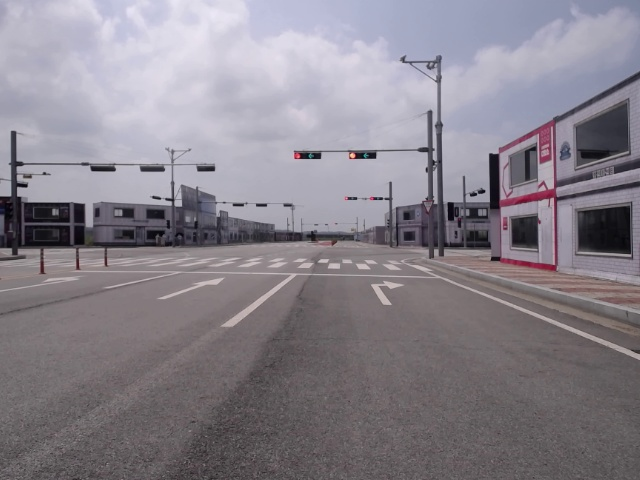left_green_4: (294, 152, 321, 159), (349, 152, 376, 159), (345, 197, 357, 199), (370, 197, 382, 199)
